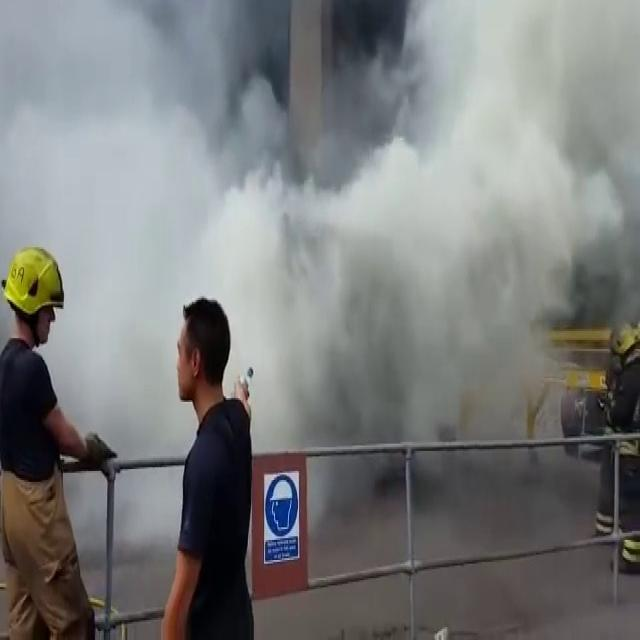Smoke: (16, 51, 640, 502)
